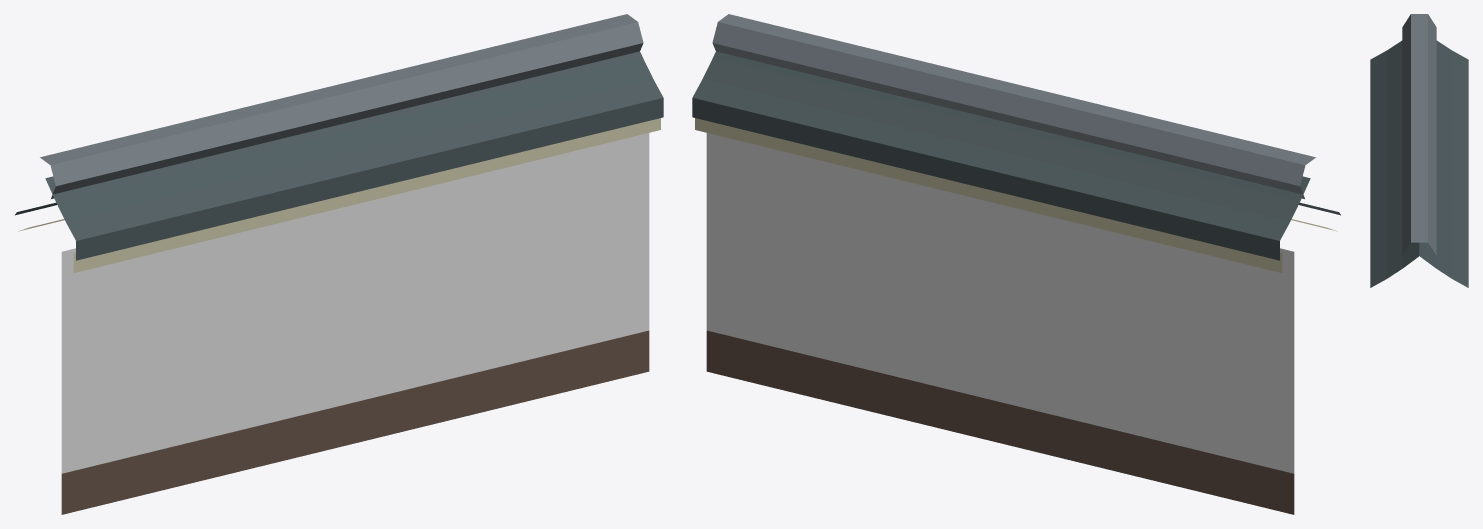
File: large-wall.glb
3 renders of one model, left to right at view 1: azimuth 30°, elevation 25°; view 2: azimuth 150°, elevation 25°; view 3: azimuth 270°, elevation 25°, orthographic. The views are drawn at different scales.
Parts seen in each view (by area): view 1: OWnG_largeWall_01.002; view 2: OWnG_largeWall_01.002; view 3: OWnG_largeWall_01.002.
Part boxes in pixels (x1,y1,x2,y2): OWnG_largeWall_01.002: [15, 14, 663, 514]; OWnG_largeWall_01.002: [692, 14, 1340, 514]; OWnG_largeWall_01.002: [1370, 14, 1468, 287].
Size of the model in its own units: 10 by 5.55 by 1.82.
